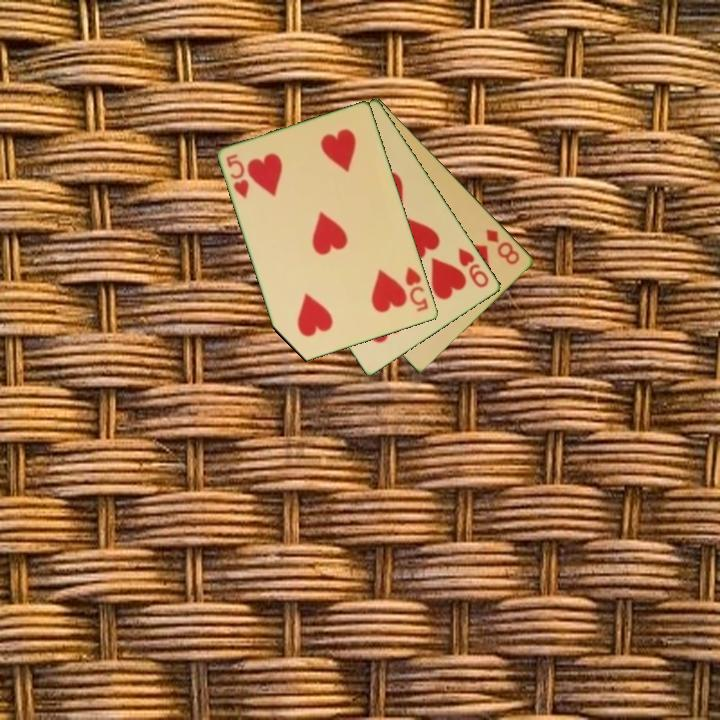5h: (402, 263, 432, 315), (223, 150, 252, 201)
8d: (483, 225, 523, 268)
9h: (455, 244, 492, 291)
